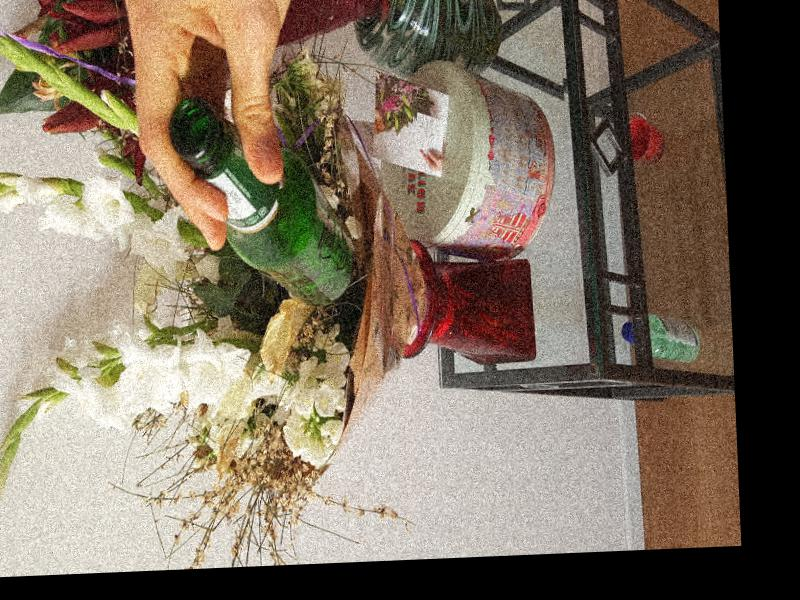Beer: (168, 94, 355, 310)
